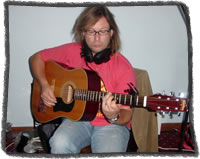guitar: (30, 61, 189, 125)
